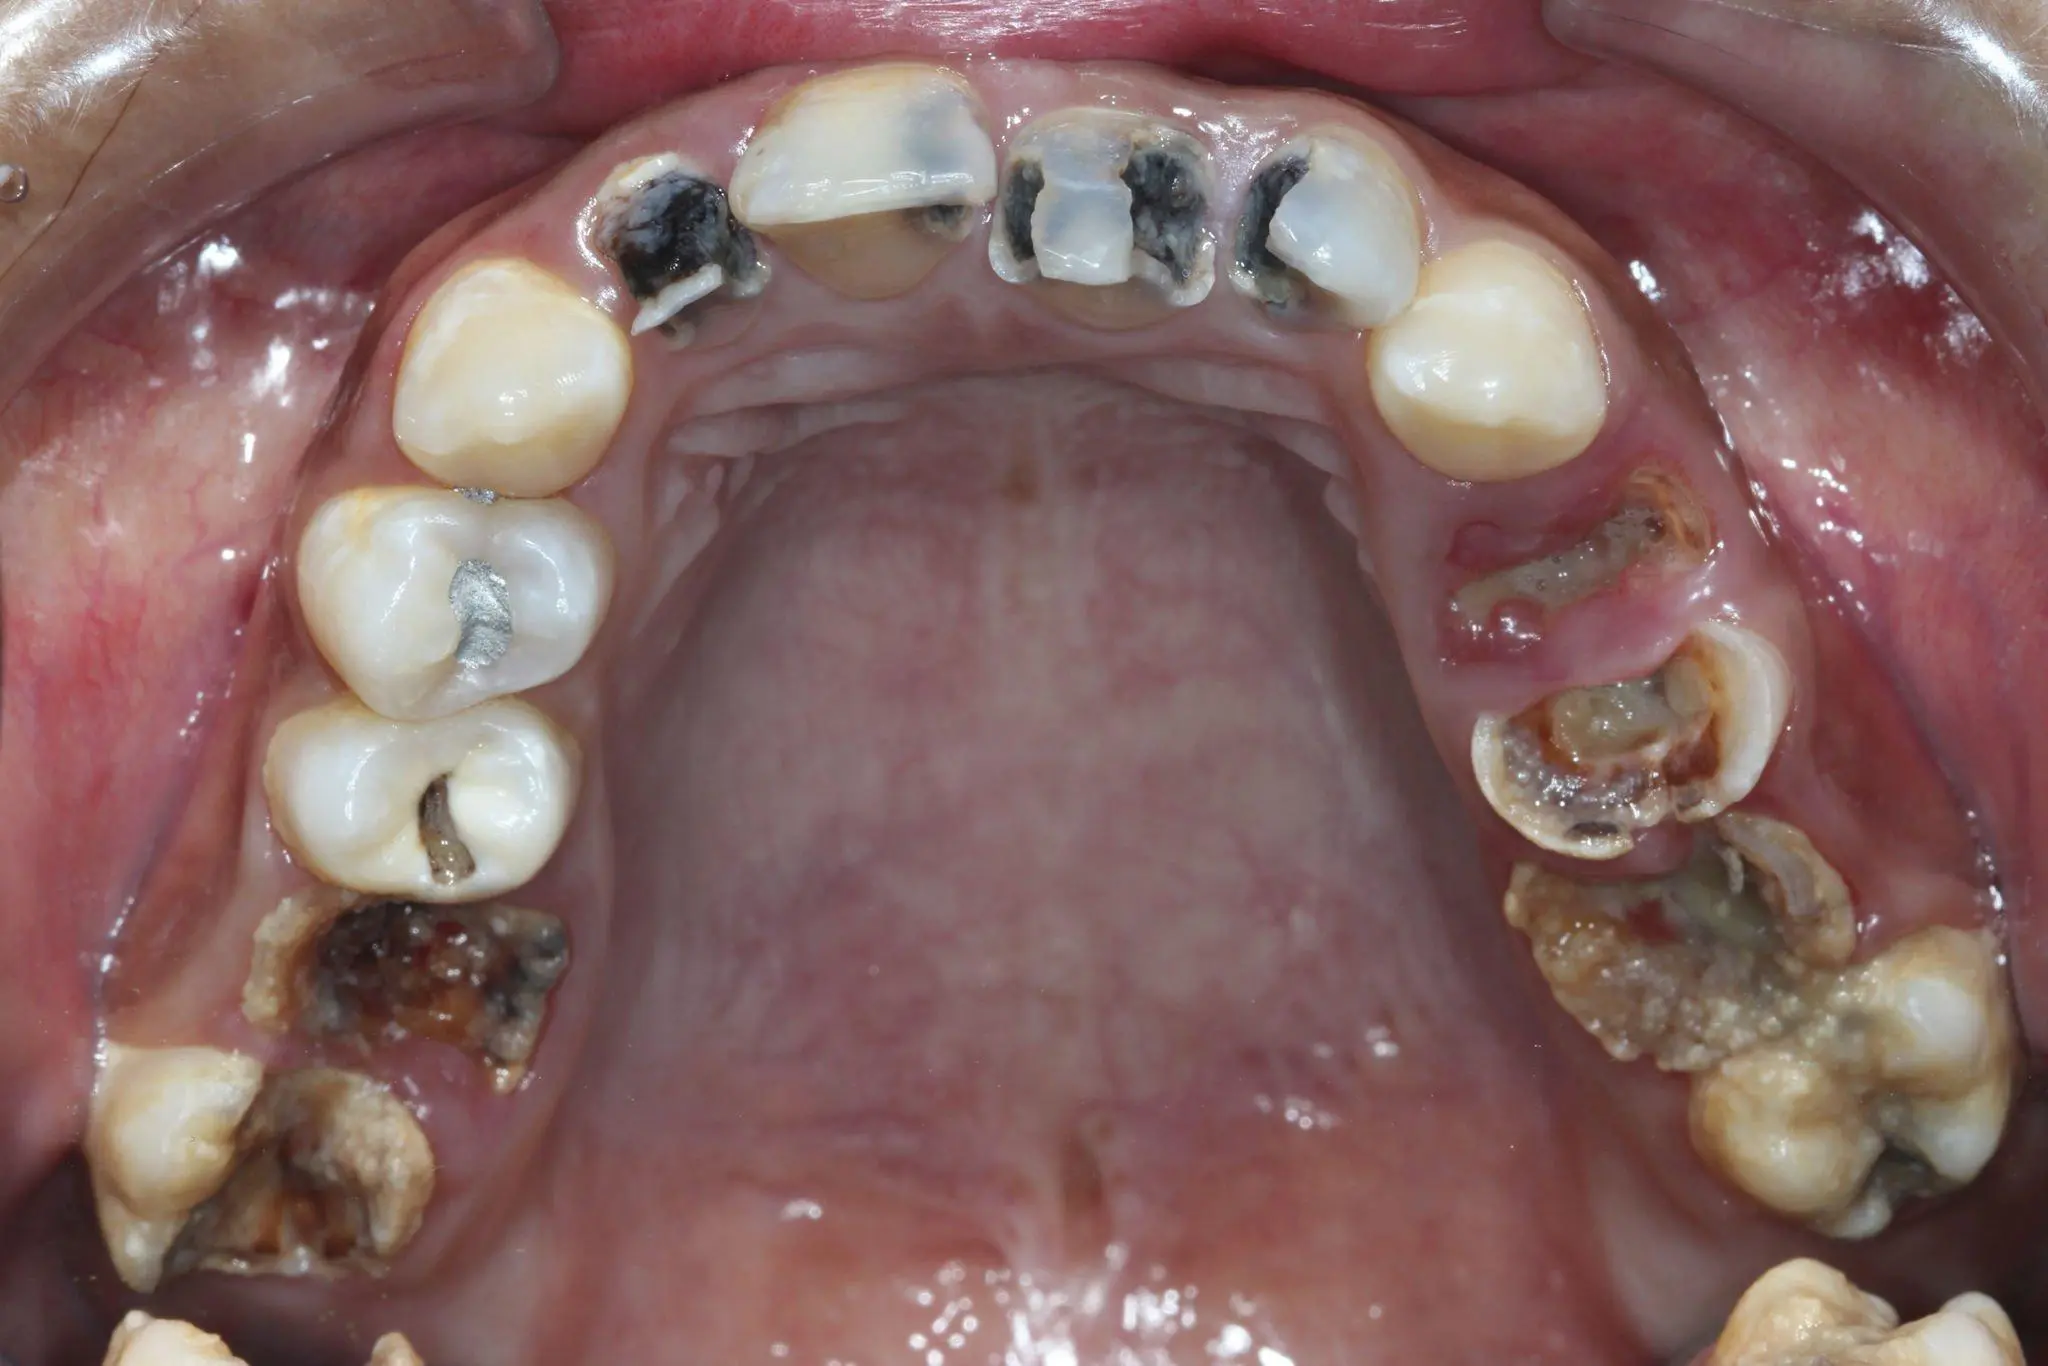UL1M_decay: (1515, 788, 1836, 1069)
UL2BC_decay: (1472, 605, 1787, 866)
UL2M_decay: (1681, 921, 2005, 1236)
ULCI_decay: (984, 98, 1218, 322)
ULC_healthy: (1355, 245, 1592, 485)
ULLI_decay: (1221, 133, 1426, 329)
UR1BC_healthy: (293, 479, 605, 718)
UR1M_decay: (216, 875, 564, 1101)
UR2BC_decay: (248, 681, 584, 903)
UR2M_decay: (84, 1041, 439, 1297)
URCI_decay: (722, 55, 994, 303)
URC_healthy: (387, 245, 654, 497)
URLI_decay: (565, 134, 766, 335)
